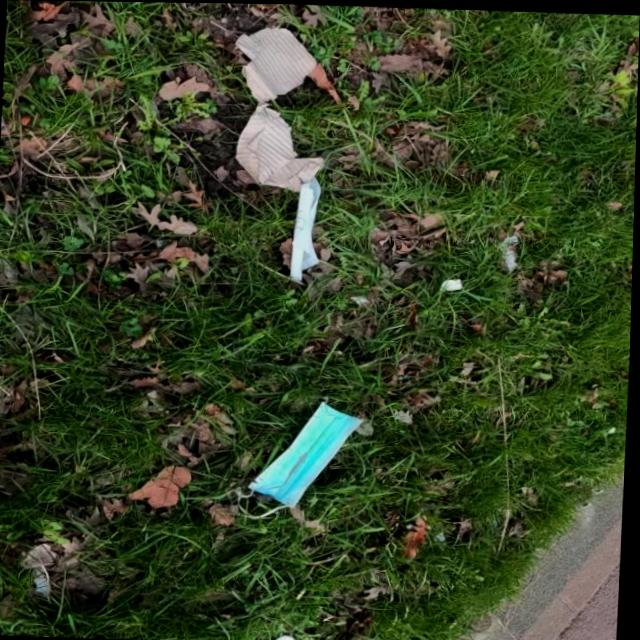Mask: (223, 405, 379, 523)
